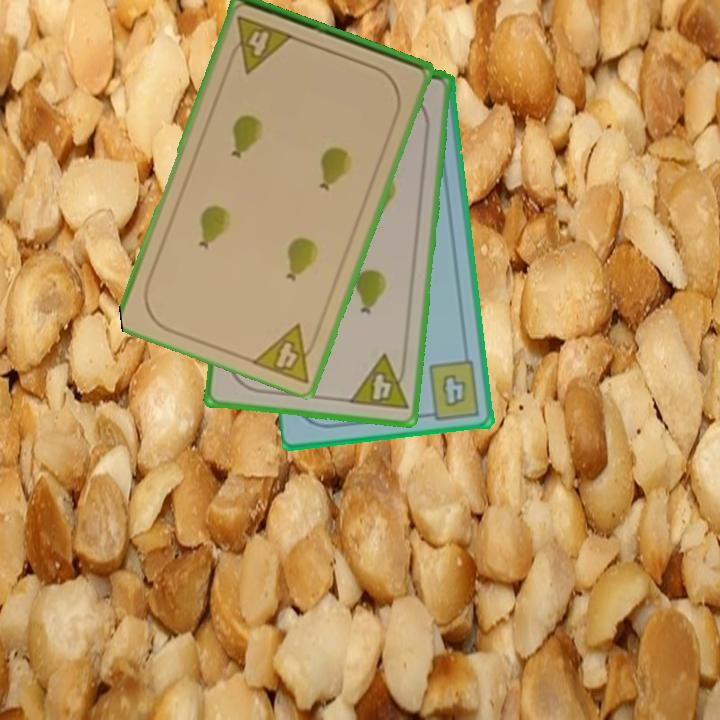4b: (420, 357, 483, 423)
4p: (248, 320, 324, 386), (224, 13, 297, 76), (345, 351, 411, 414)
